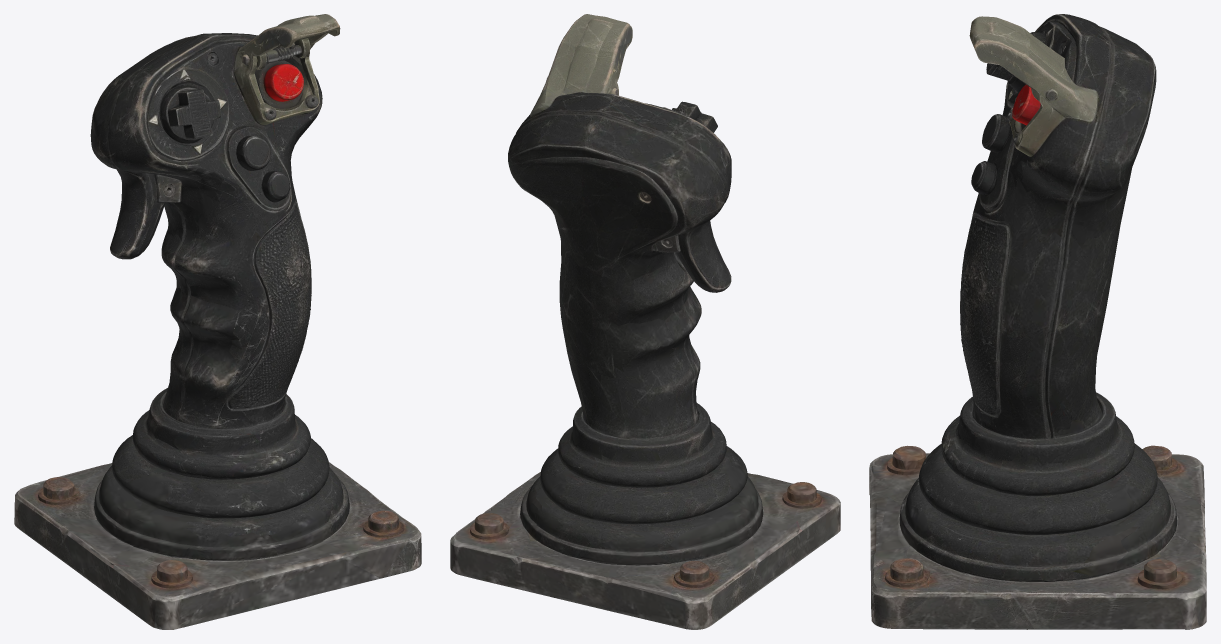
File: stick.glb
3 renders of one model, left to right at view 1: azimuth 30°, elevation 25°; view 2: azimuth 150°, elevation 25°; view 3: azimuth 270°, elevation 25°, orthographic. The views are drawn at different scales.
Parts seen in each view (by area): view 1: Mesh_0; view 2: Mesh_0; view 3: Mesh_0.
Part boxes in pixels (x1=…): Mesh_0: x1=14, y1=14, x2=421, y2=629; Mesh_0: x1=450, y1=14, x2=840, y2=629; Mesh_0: x1=869, y1=14, x2=1206, y2=629.
Bounding box in the file's own units: 1.03 × 1.9 × 1.02.
1 material, 1 textured.
